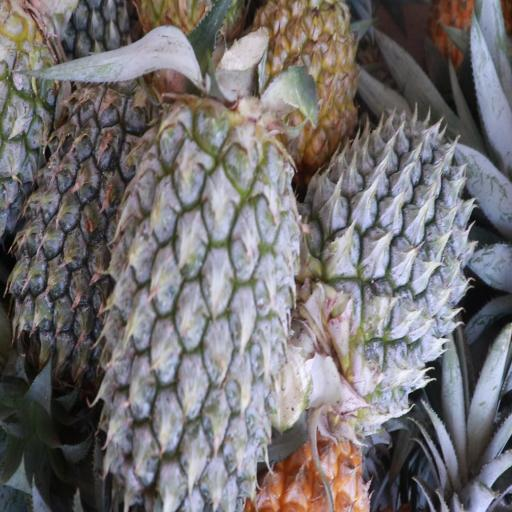Pineapple - v8 v1: (257, 0, 358, 149)
